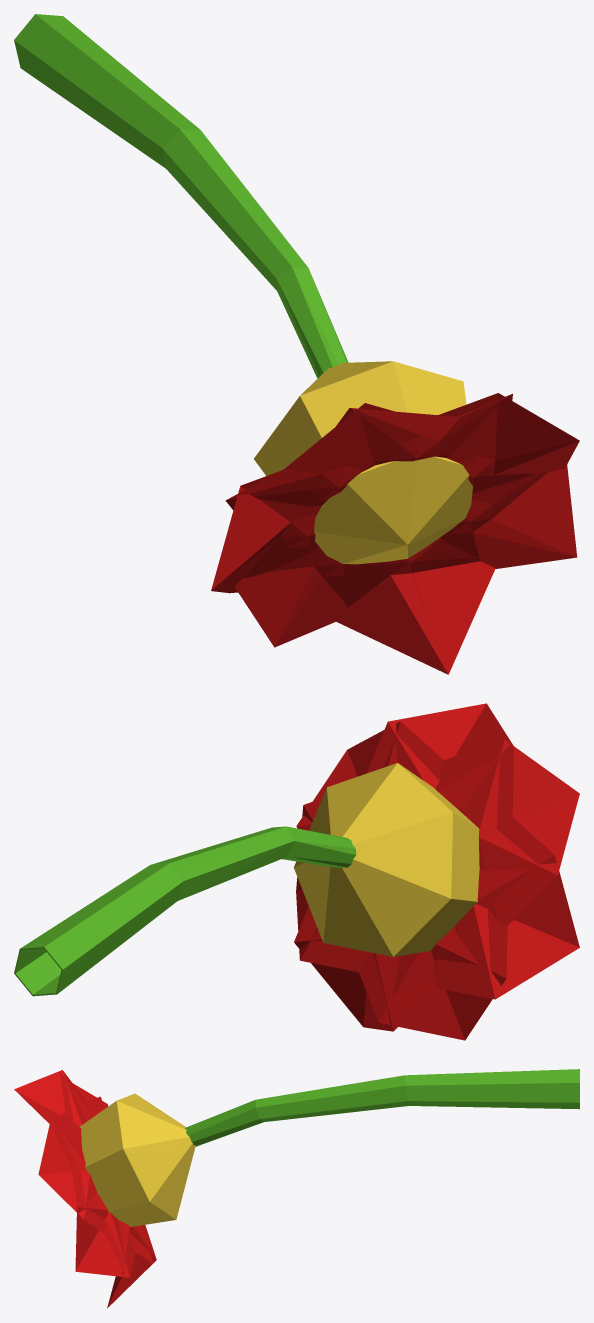
File: arme_fleur.fbx
3 views of the same model, one above another, from view 1: azimuth 30°, elevation 25°; view 2: azimuth 150°, elevation 25°; view 3: azimuth 270°, elevation 25° (orthographic). The views are drawn at different scales.
Parts seen in each view (by area): view 1: Tube001; view 2: Tube001; view 3: Tube001.
Part boxes in pixels (x1,y1,x2,y2): Tube001: (14,14,579,674); Tube001: (14,703,579,1040); Tube001: (14,1069,579,1308).
Size of the model in its own units: 18.01 by 19.06 by 42.04.
